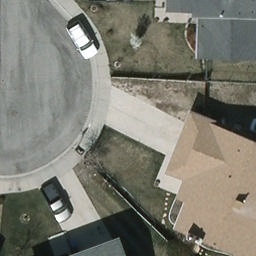car: (63, 18, 104, 65)
pickup: (39, 179, 74, 224), (86, 0, 137, 1)
